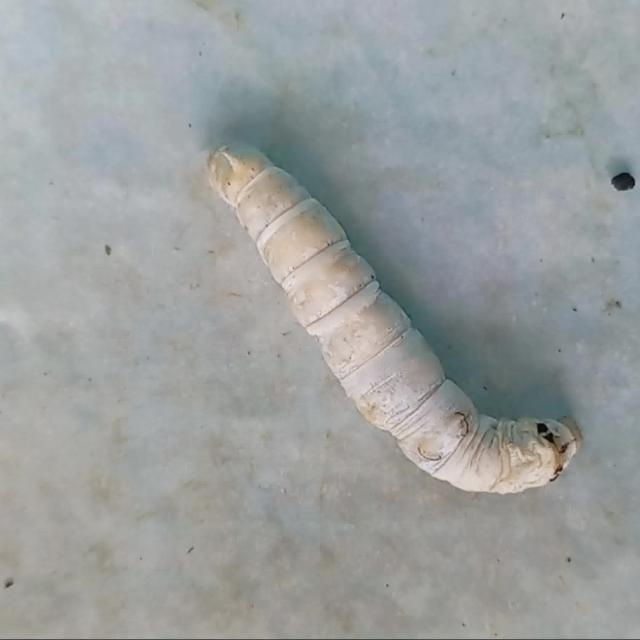Grasserie: (200, 130, 587, 510)
